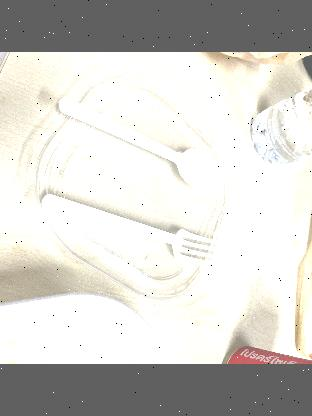Others: (54, 93, 232, 193), (38, 186, 228, 272)
